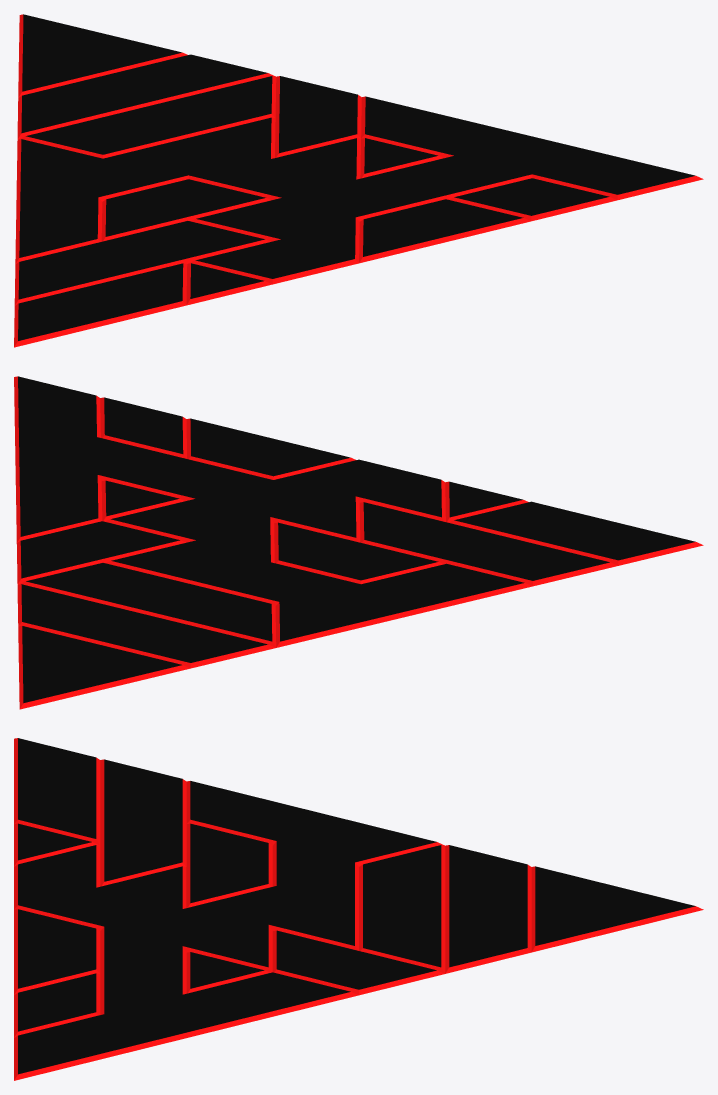
File: Cyberpunk Triangle Tile.004.glb
3 renders of one model, top to bottom at view 1: azimuth 30°, elevation 25°; view 2: azimuth 150°, elevation 25°; view 3: azimuth 270°, elevation 25°, orthographic.
Parts seen in each view (by area): view 1: Cyberpunk Triangle Tile.004; view 2: Cyberpunk Triangle Tile.004; view 3: Cyberpunk Triangle Tile.004.
Boxes of the visible parts, <box> form: Cyberpunk Triangle Tile.004: <box>14,14,703,347</box>; Cyberpunk Triangle Tile.004: <box>14,376,703,709</box>; Cyberpunk Triangle Tile.004: <box>14,738,703,1080</box>.
Bounding box in the file's own units: 1.02 × 0.005 × 0.8664.
Materials: 1 (1 with a texture image).
